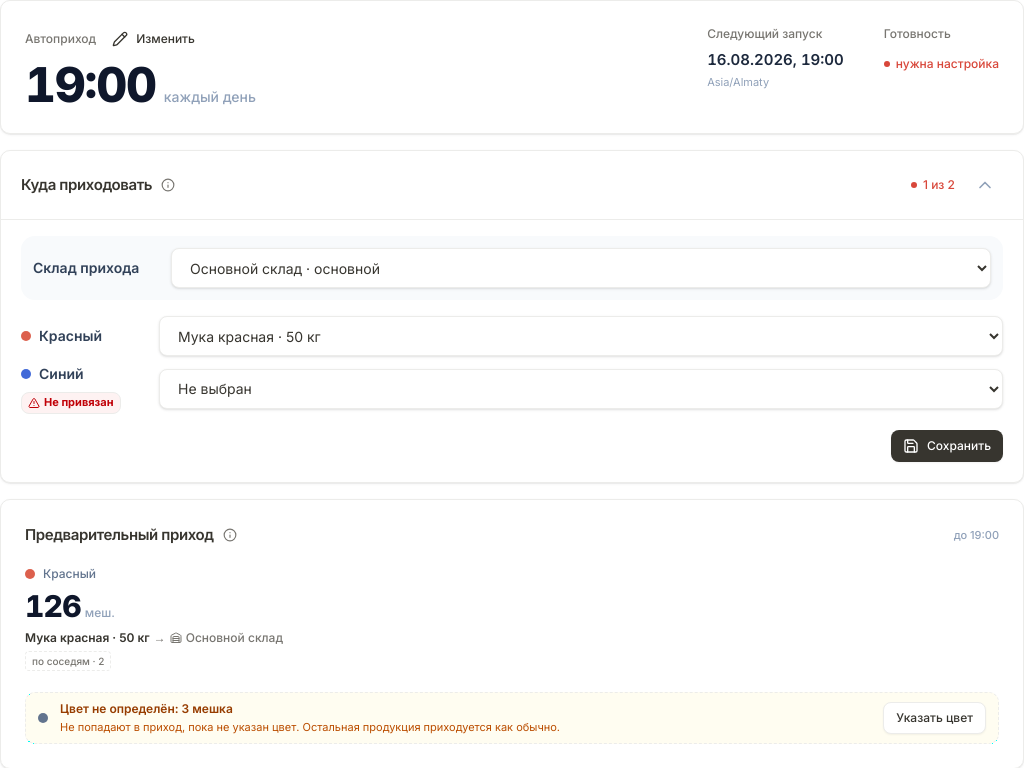
Test case: AlwaysOnProductionPanel › не блокирует приход мешками без цвета и предлагает указать цвет
The width and height of the screenshot is (1024, 768).
expect the text "по соседям · 2" is shown: met, box [25,651,111,671]
expect the text "Цвет не определён: 3 мешка" is shown: met, box [60,701,233,716]
Click the button "Указать цвет".
click(935, 718)  # box [883,702,986,734]
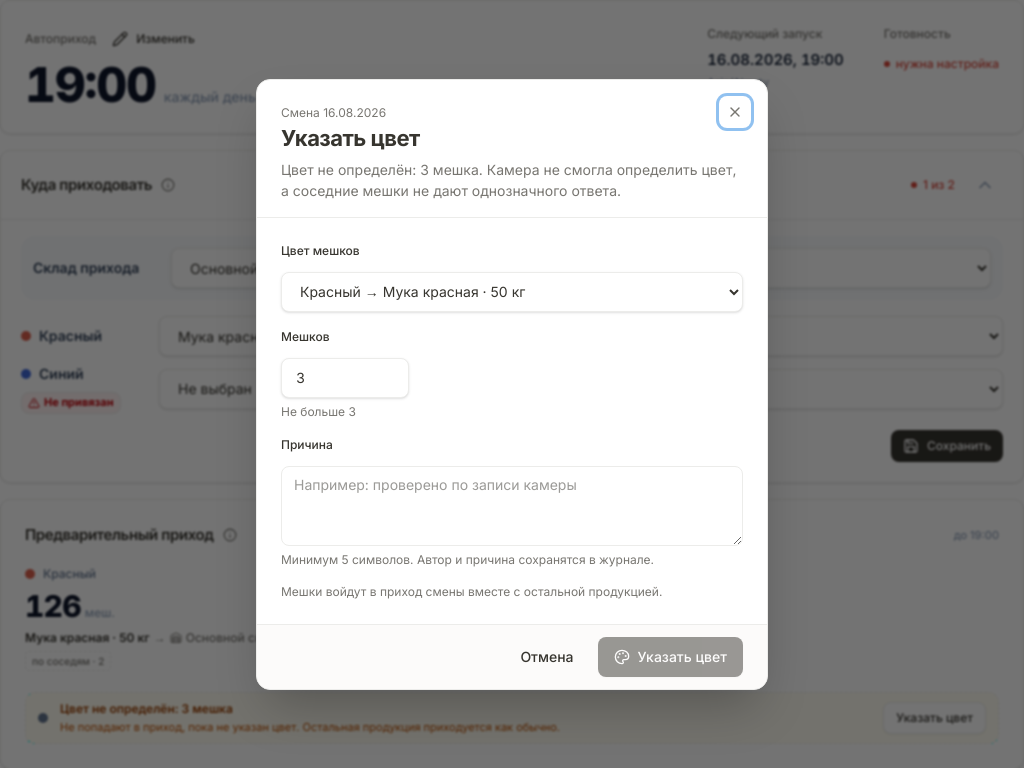
Type "Проверено по записи" into the text box labelled "Причина".
click(512, 506); type("Проверено по записи")  # box [281,466,743,546]
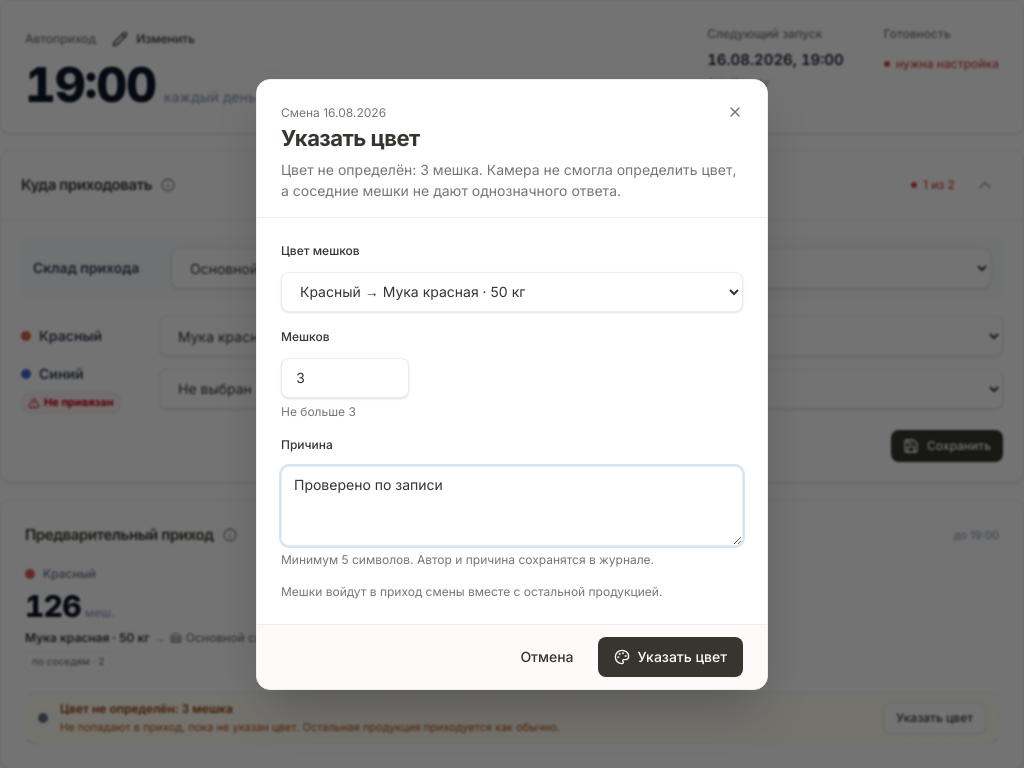
Click the button "Указать цвет".
click(670, 656)  # box [598,636,743,676]
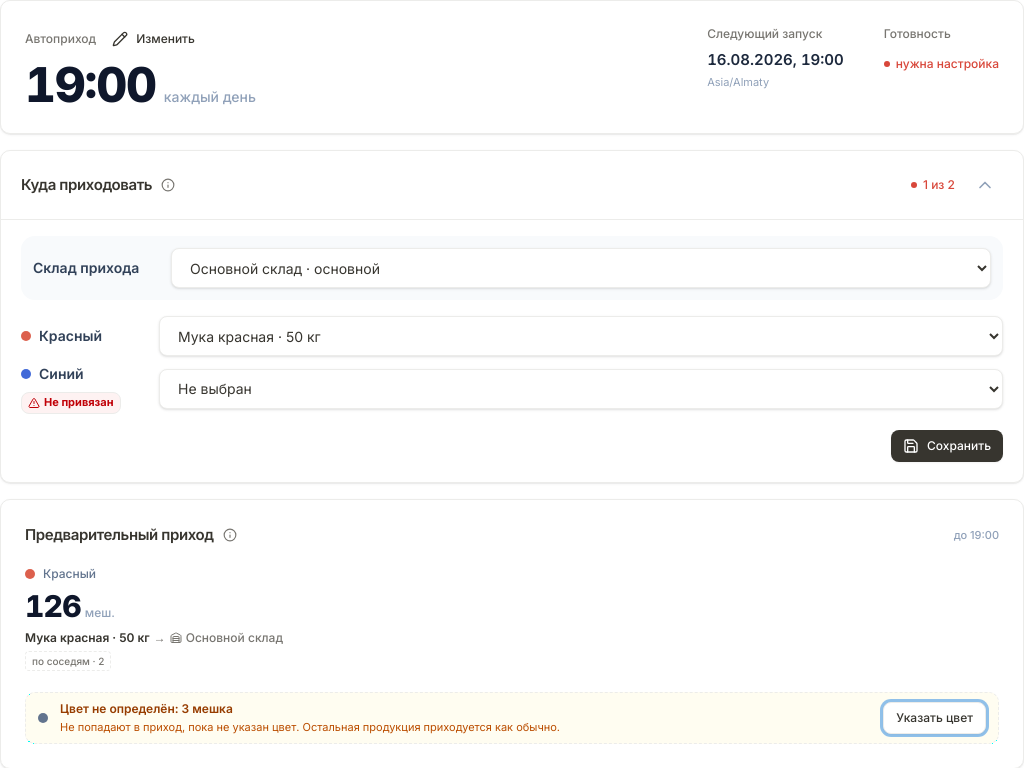
expect the dialog is gone: met
